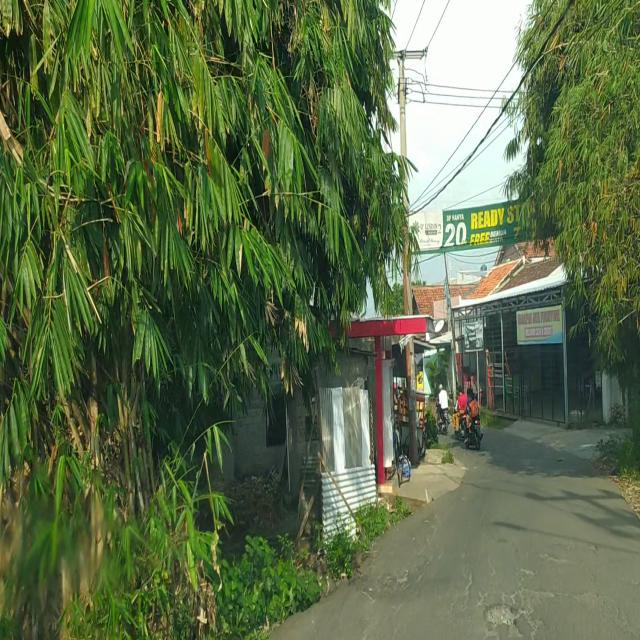Drain Hole: (362, 533, 439, 606), (476, 563, 546, 640)
